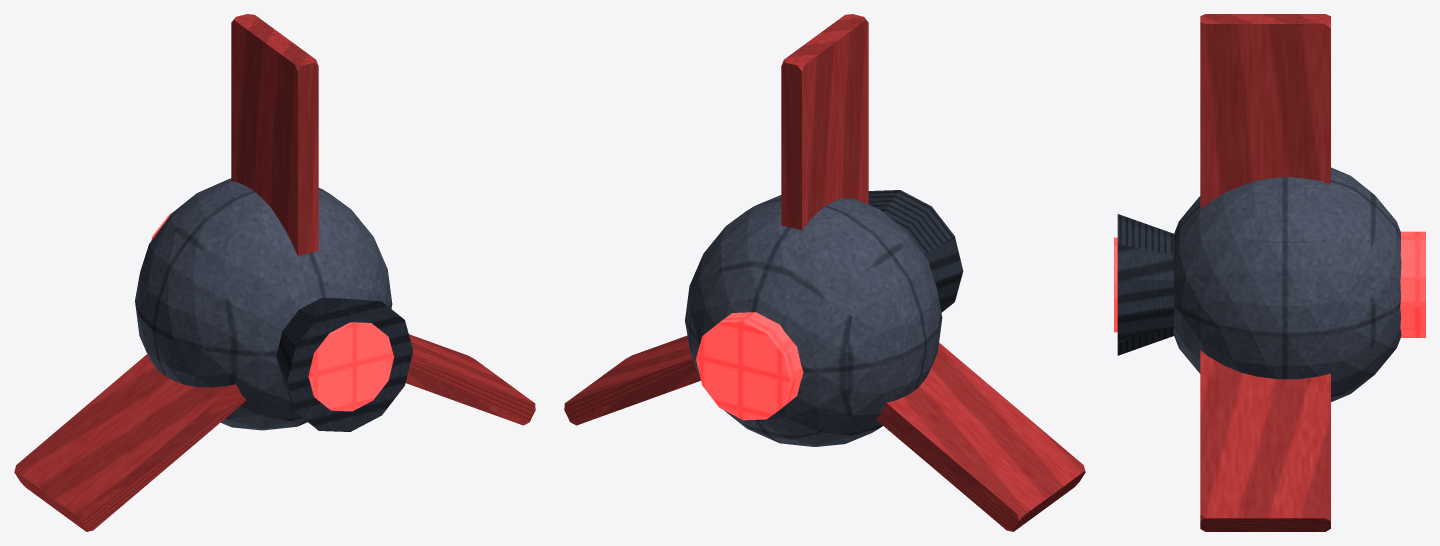
The model's file is enemy_scout_drone.glb.
The picture shows the model from 3 angles, left to right: view 1: azimuth 30°, elevation 25°; view 2: azimuth 150°, elevation 25°; view 3: azimuth 270°, elevation 25°; orthographic projection. The views are drawn at different scales.
Parts seen in each view (by area): view 1: enemy_scout_drone; view 2: enemy_scout_drone; view 3: enemy_scout_drone.
Part boxes in pixels (x1=…): enemy_scout_drone: x1=14, y1=14, x2=535, y2=531; enemy_scout_drone: x1=564, y1=14, x2=1085, y2=531; enemy_scout_drone: x1=1114, y1=14, x2=1425, y2=531.
Size of the model in its own units: 3.5 by 3.03 by 2.1.
Materials: 1 (1 with a texture image).
